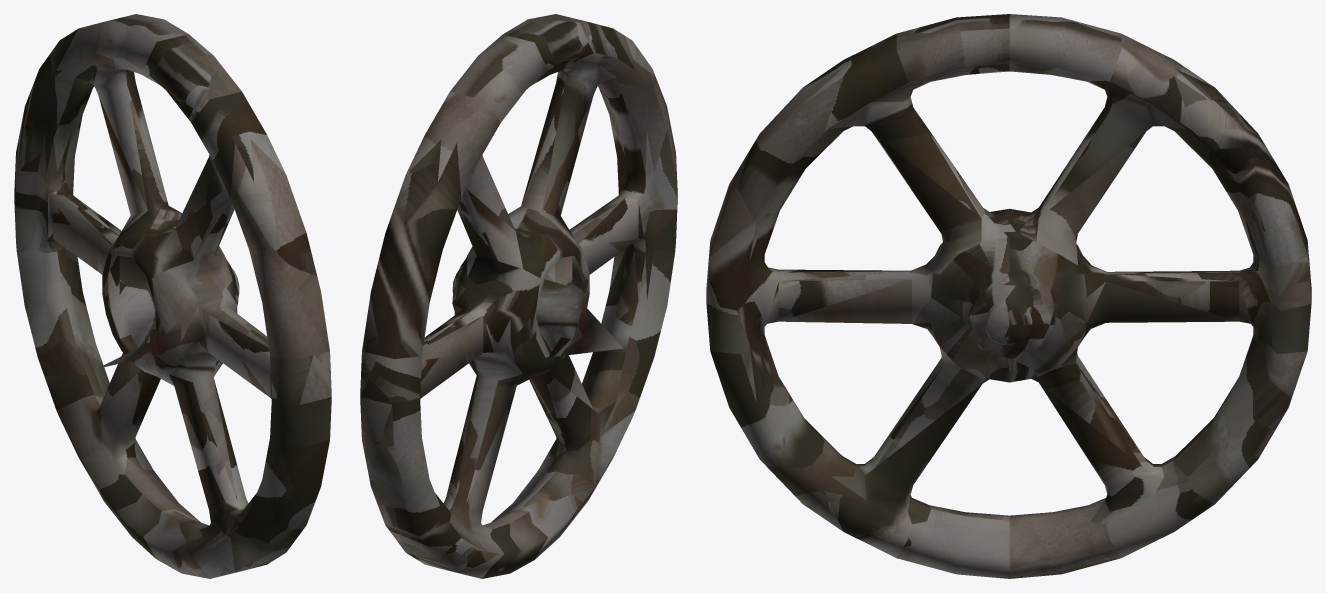
Rendered from red+valve_wheel.fbx.
The picture shows the model from 3 angles, left to right: view 1: azimuth 30°, elevation 25°; view 2: azimuth 150°, elevation 25°; view 3: azimuth 270°, elevation 25°; orthographic projection. The views are drawn at different scales.
Parts seen in each view (by area): view 1: tripo_part_11; view 2: tripo_part_11; view 3: tripo_part_11.
Part boxes in pixels (box(x1,y1,x2,y2)): tripo_part_11: box(14, 14, 331, 578); tripo_part_11: box(360, 14, 677, 578); tripo_part_11: box(706, 14, 1311, 578).
Bounding box in the file's own units: 0.2779 × 0.9335 × 0.9335.
